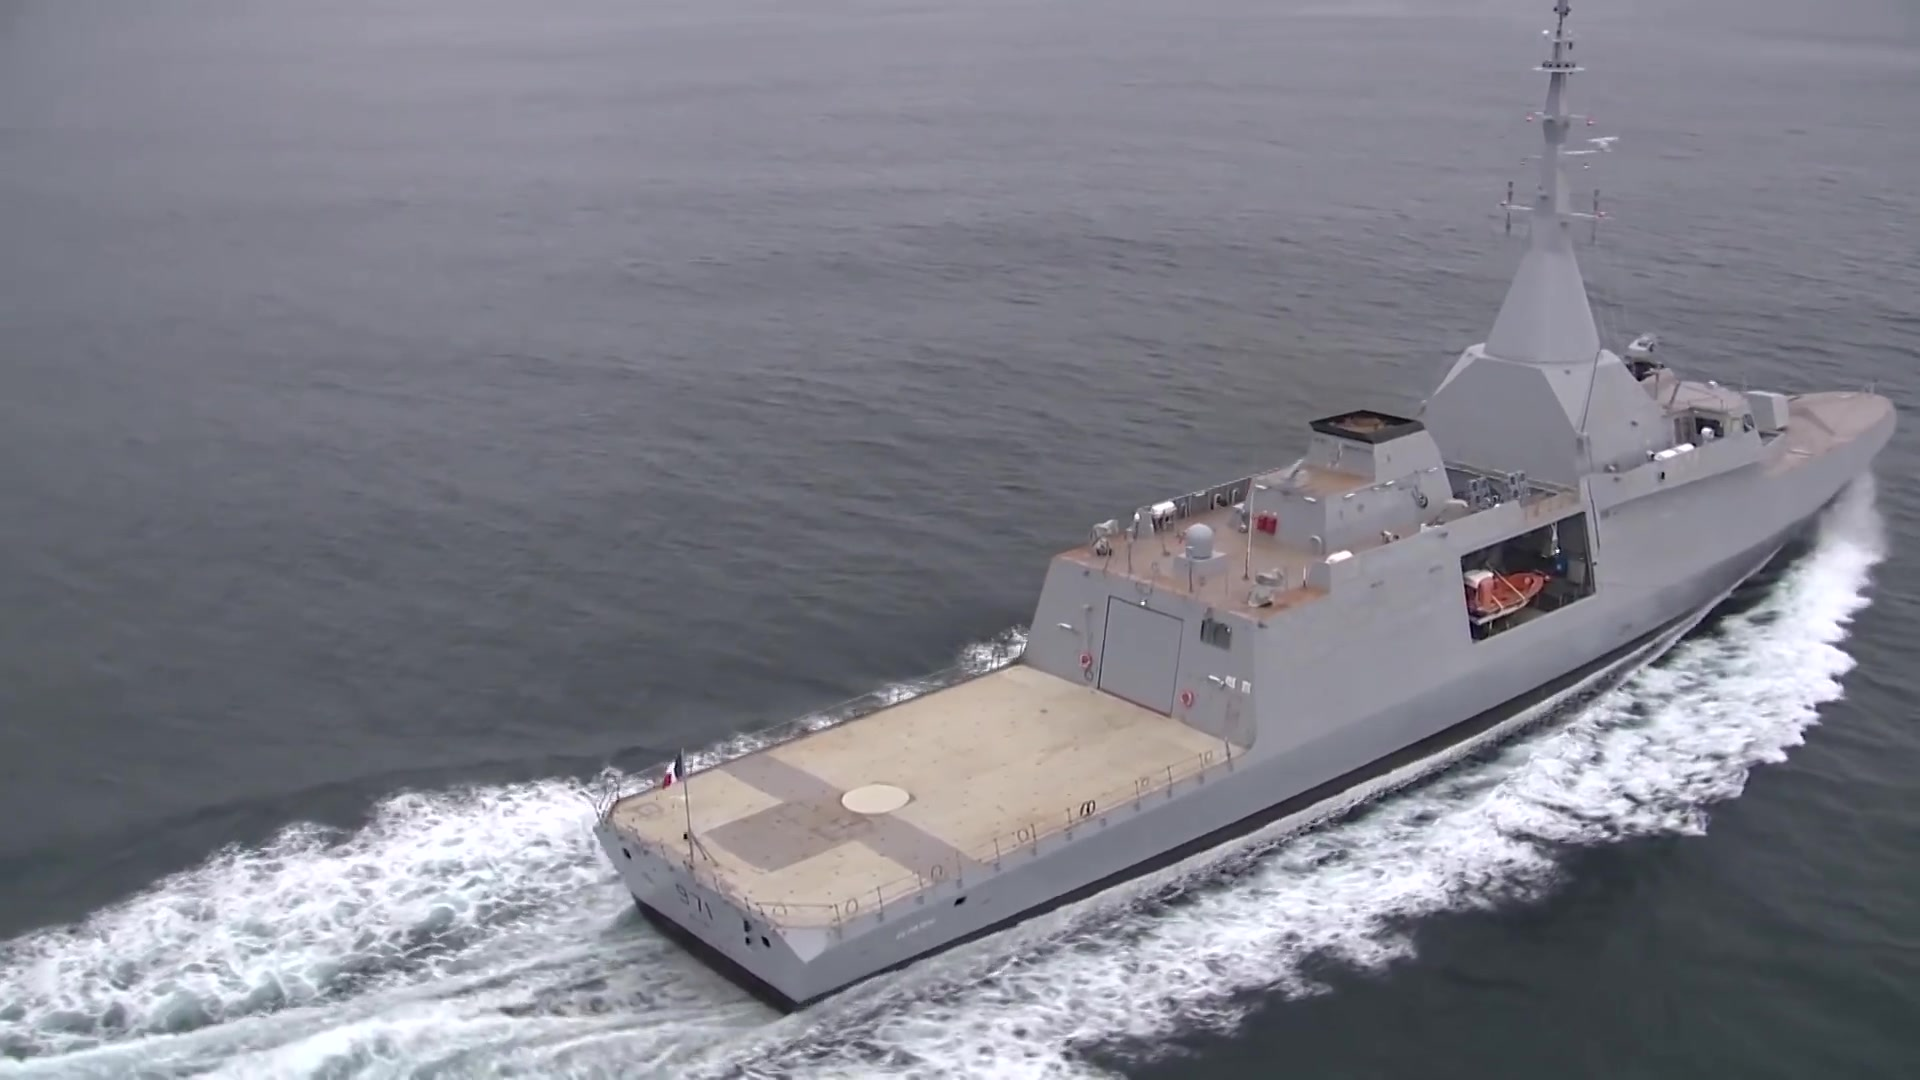WarShip: (589, 119, 1896, 1017)
